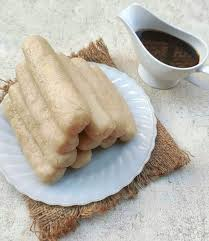Pempek lenjer: (14, 35, 92, 131), (9, 78, 78, 169), (12, 61, 80, 152), (0, 95, 64, 184), (61, 50, 116, 142), (72, 54, 130, 139), (88, 58, 140, 139)
